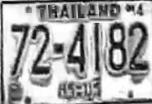1: (92, 23, 100, 71)
2: (129, 21, 149, 71), (31, 24, 51, 74)
4: (66, 22, 85, 72)
7: (10, 23, 30, 74)
8: (107, 22, 126, 70)
SRI: (53, 76, 102, 102)
